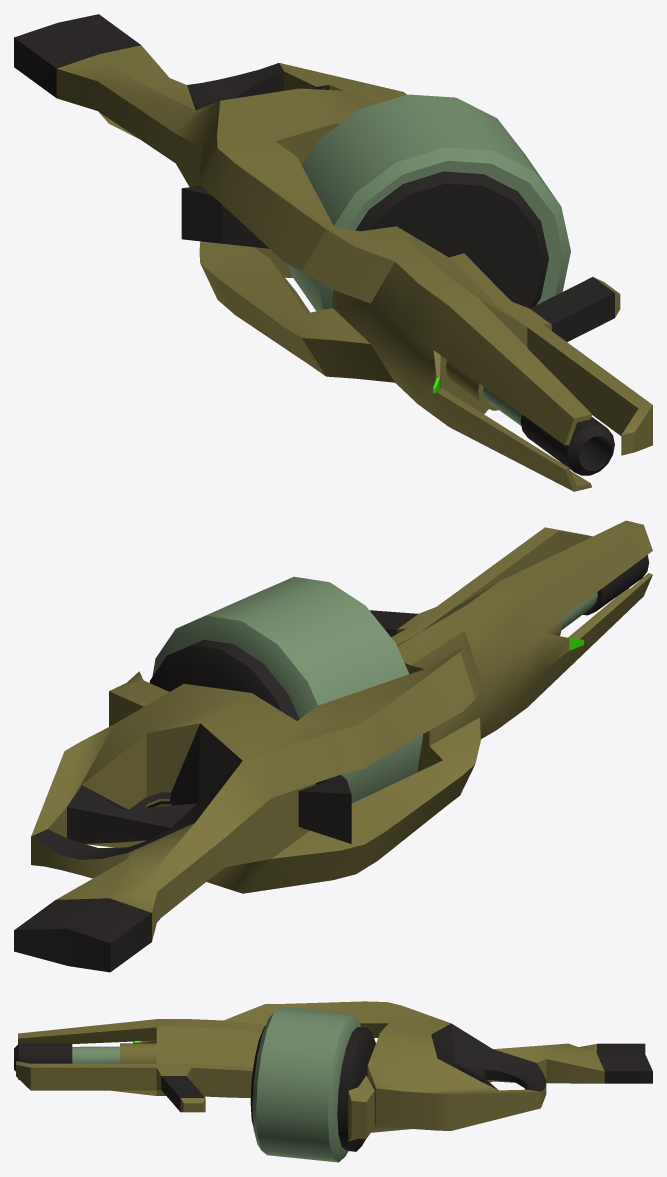
File: Plasma_gun_g_low.fbx
3 views of the same model, one above another, from view 1: azimuth 30°, elevation 25°; view 2: azimuth 150°, elevation 25°; view 3: azimuth 270°, elevation 25° (orthographic). The views are drawn at different scales.
Visible parts, largest first — view 1: Plasma_Shotgun_G1_high_poly; view 2: Plasma_Shotgun_G1_high_poly; view 3: Plasma_Shotgun_G1_high_poly.
Part boxes in pixels (x1=…): Plasma_Shotgun_G1_high_poly: x1=14, y1=14, x2=652, y2=491; Plasma_Shotgun_G1_high_poly: x1=14, y1=520, x2=652, y2=972; Plasma_Shotgun_G1_high_poly: x1=14, y1=1001, x2=652, y2=1162.
Size of the model in its own units: 12.15 by 9.5 by 40.56.
